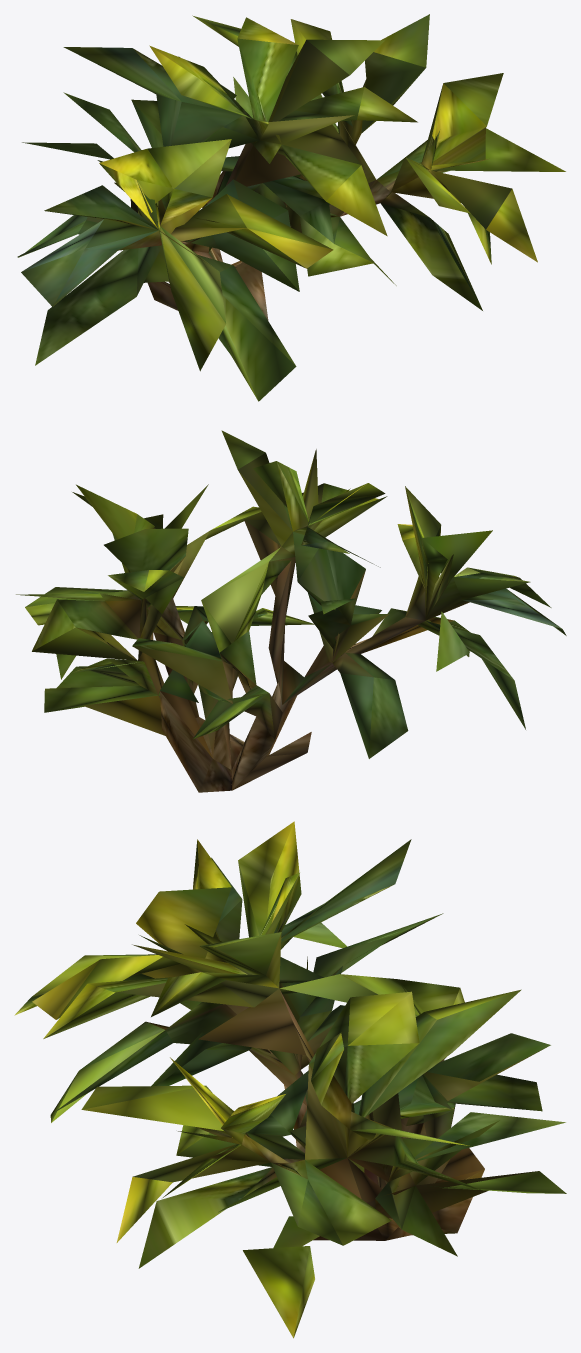
The model's file is bush.glb.
The picture shows the model from 3 angles, top to bottom: view 1: azimuth 30°, elevation 25°; view 2: azimuth 150°, elevation 25°; view 3: azimuth 270°, elevation 25°; orthographic projection. The views are drawn at different scales.
Visible parts, largest first — view 1: BushMesh; view 2: BushMesh; view 3: BushMesh.
Part boxes in pixels (left/top/right/bottom): BushMesh: left=17, top=14, right=565, bottom=401; BushMesh: left=16, top=430, right=566, bottom=792; BushMesh: left=14, top=821, right=566, bottom=1338.
Size of the model in its own units: 1.42 by 0.84 by 1.16.
1 material, 1 textured.
